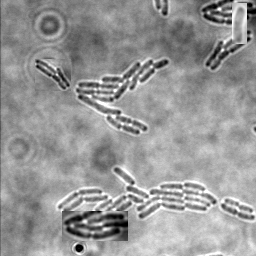Dividing: (219, 204, 255, 222), (223, 199, 253, 215)
Microcolony: (57, 167, 216, 238), (75, 59, 169, 136), (62, 211, 128, 241), (204, 30, 251, 72), (200, 1, 255, 26), (35, 59, 71, 91), (232, 3, 247, 44)
